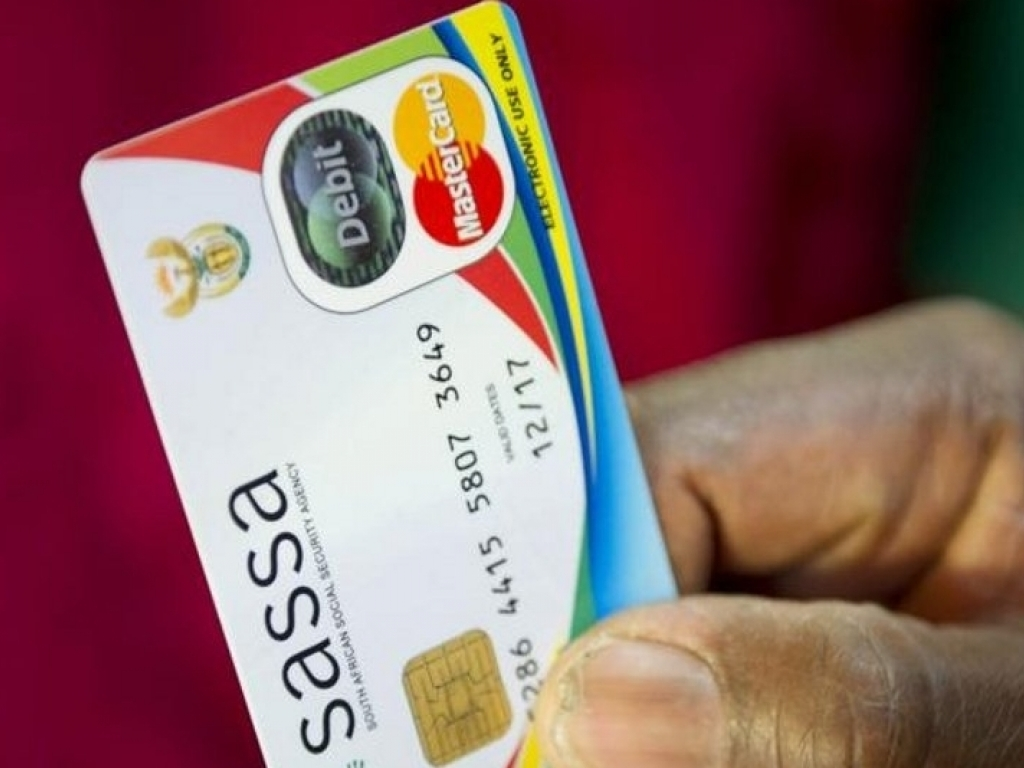tarjeta: (78, 1, 685, 760)
